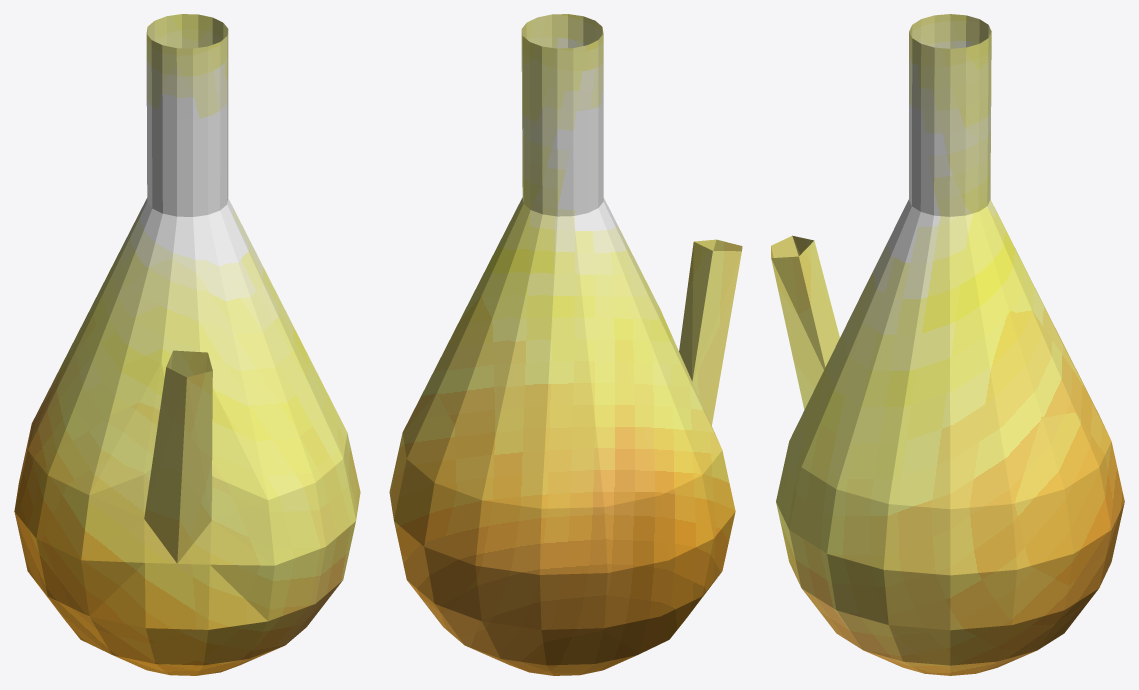
Rendered from chemical_lab_installation_reactor.obj.
3 views of the same model, side by side, from view 1: azimuth 30°, elevation 25°; view 2: azimuth 150°, elevation 25°; view 3: azimuth 270°, elevation 25° (orthographic).
Parts seen in each view (by area): view 1: Cube_Cube.002; view 2: Cube_Cube.002; view 3: Cube_Cube.002.
Part boxes in pixels (x1=…): Cube_Cube.002: x1=14, y1=14, x2=360, y2=675; Cube_Cube.002: x1=389, y1=14, x2=742, y2=675; Cube_Cube.002: x1=771, y1=14, x2=1124, y2=675.
Bounding box in the file's own units: 0.1762 × 0.3501 × 0.1786.
